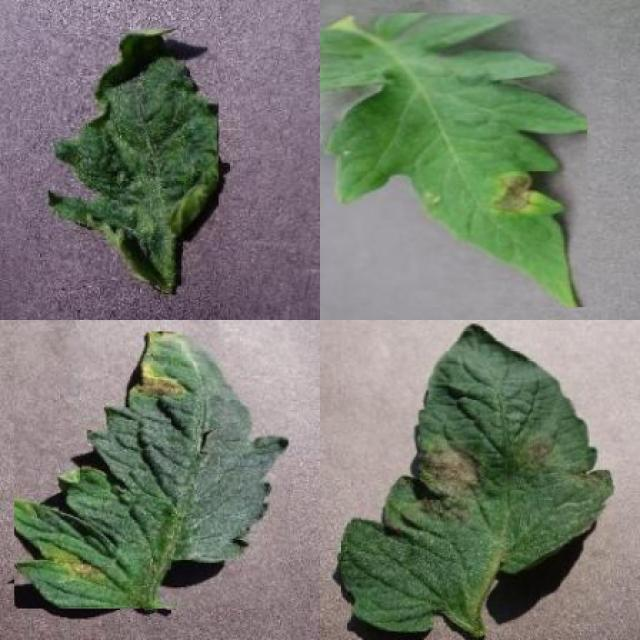Early Blight: (15, 332, 288, 608)
Late Blight: (340, 323, 616, 631), (320, 13, 587, 308)
Mosaic Virus: (48, 29, 218, 285)
